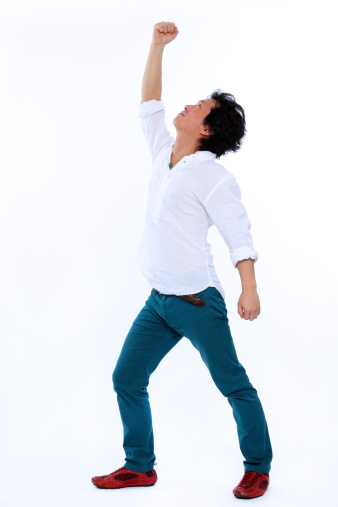em pe: (96, 39, 273, 497)
